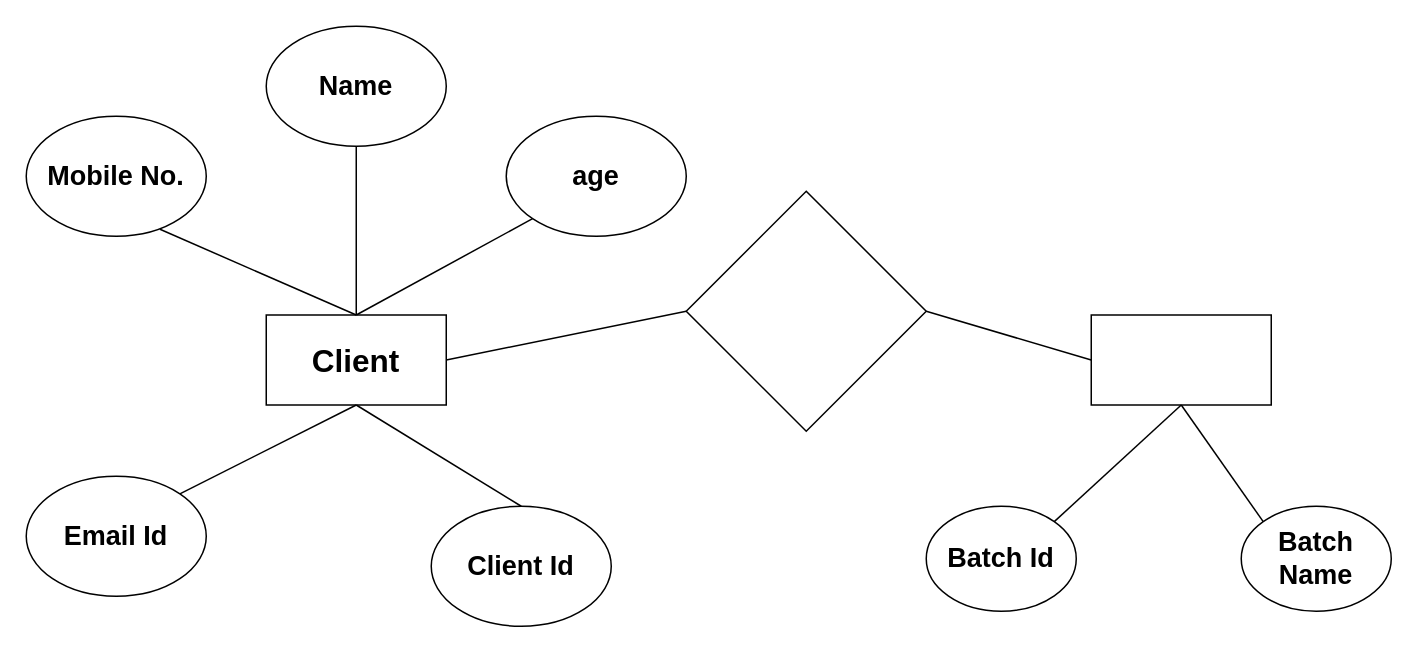
Image size: 1418x653. Some labels were removed from this diagram. Each missing label, with the centre of its shape:
"Batch" belongs at point 1180,359.
"enrolls in" belongs at point 805,310.
